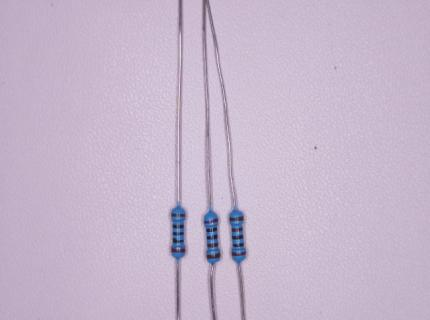Black band: (172, 238, 183, 243), (207, 227, 218, 232), (232, 235, 244, 239), (206, 235, 217, 239), (233, 243, 244, 247), (173, 224, 183, 228), (173, 232, 184, 235)
Brown band: (207, 253, 220, 259), (230, 216, 244, 221), (171, 213, 185, 217), (232, 227, 243, 232), (207, 243, 219, 247)
Red band: (231, 251, 246, 256), (171, 248, 185, 253), (204, 218, 218, 223)
